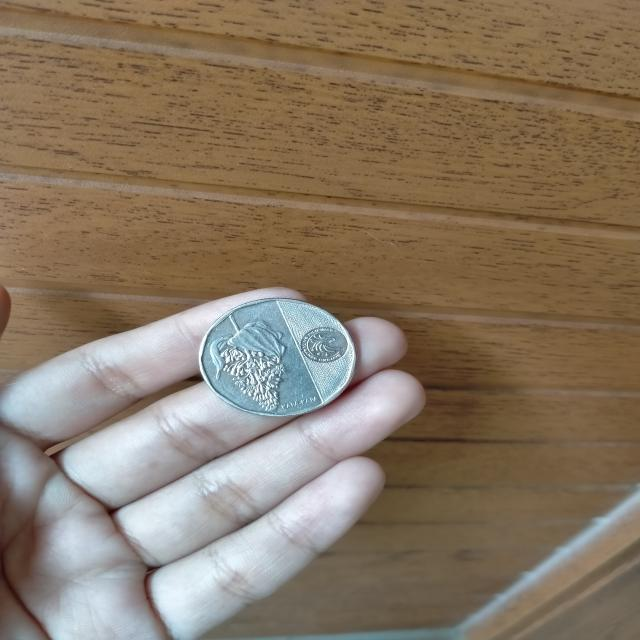10_New_Back: (200, 313, 304, 413)
